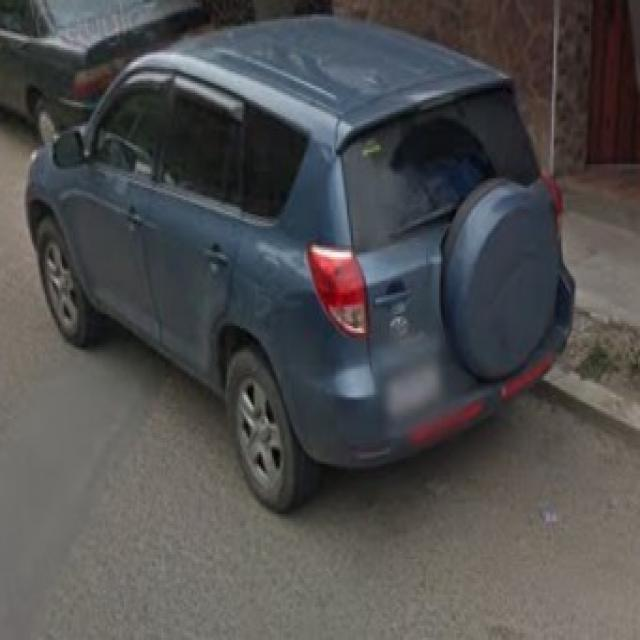cars: (19, 17, 576, 508)
